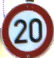20 km speed: (1, 1, 53, 57)
